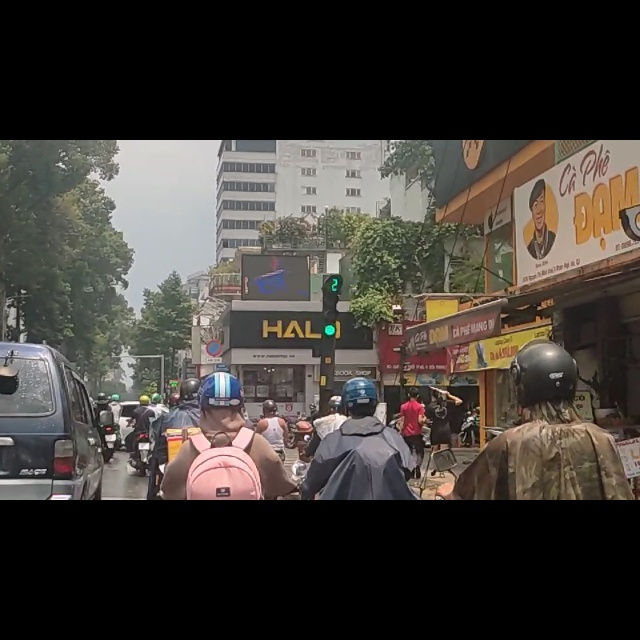bien_cam: (205, 354, 223, 385)
